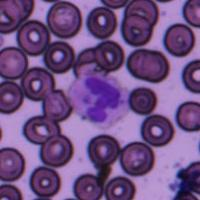N: (68, 71, 130, 128)
